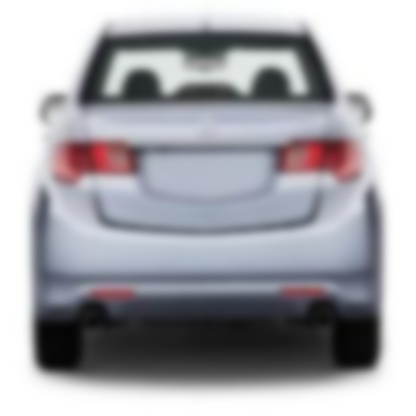Vehicle: (32, 15, 384, 371)
